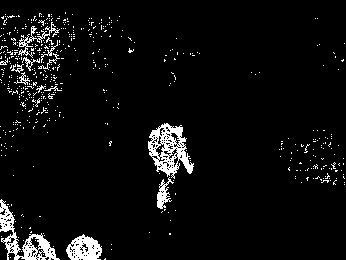person: (148, 123, 195, 210)
